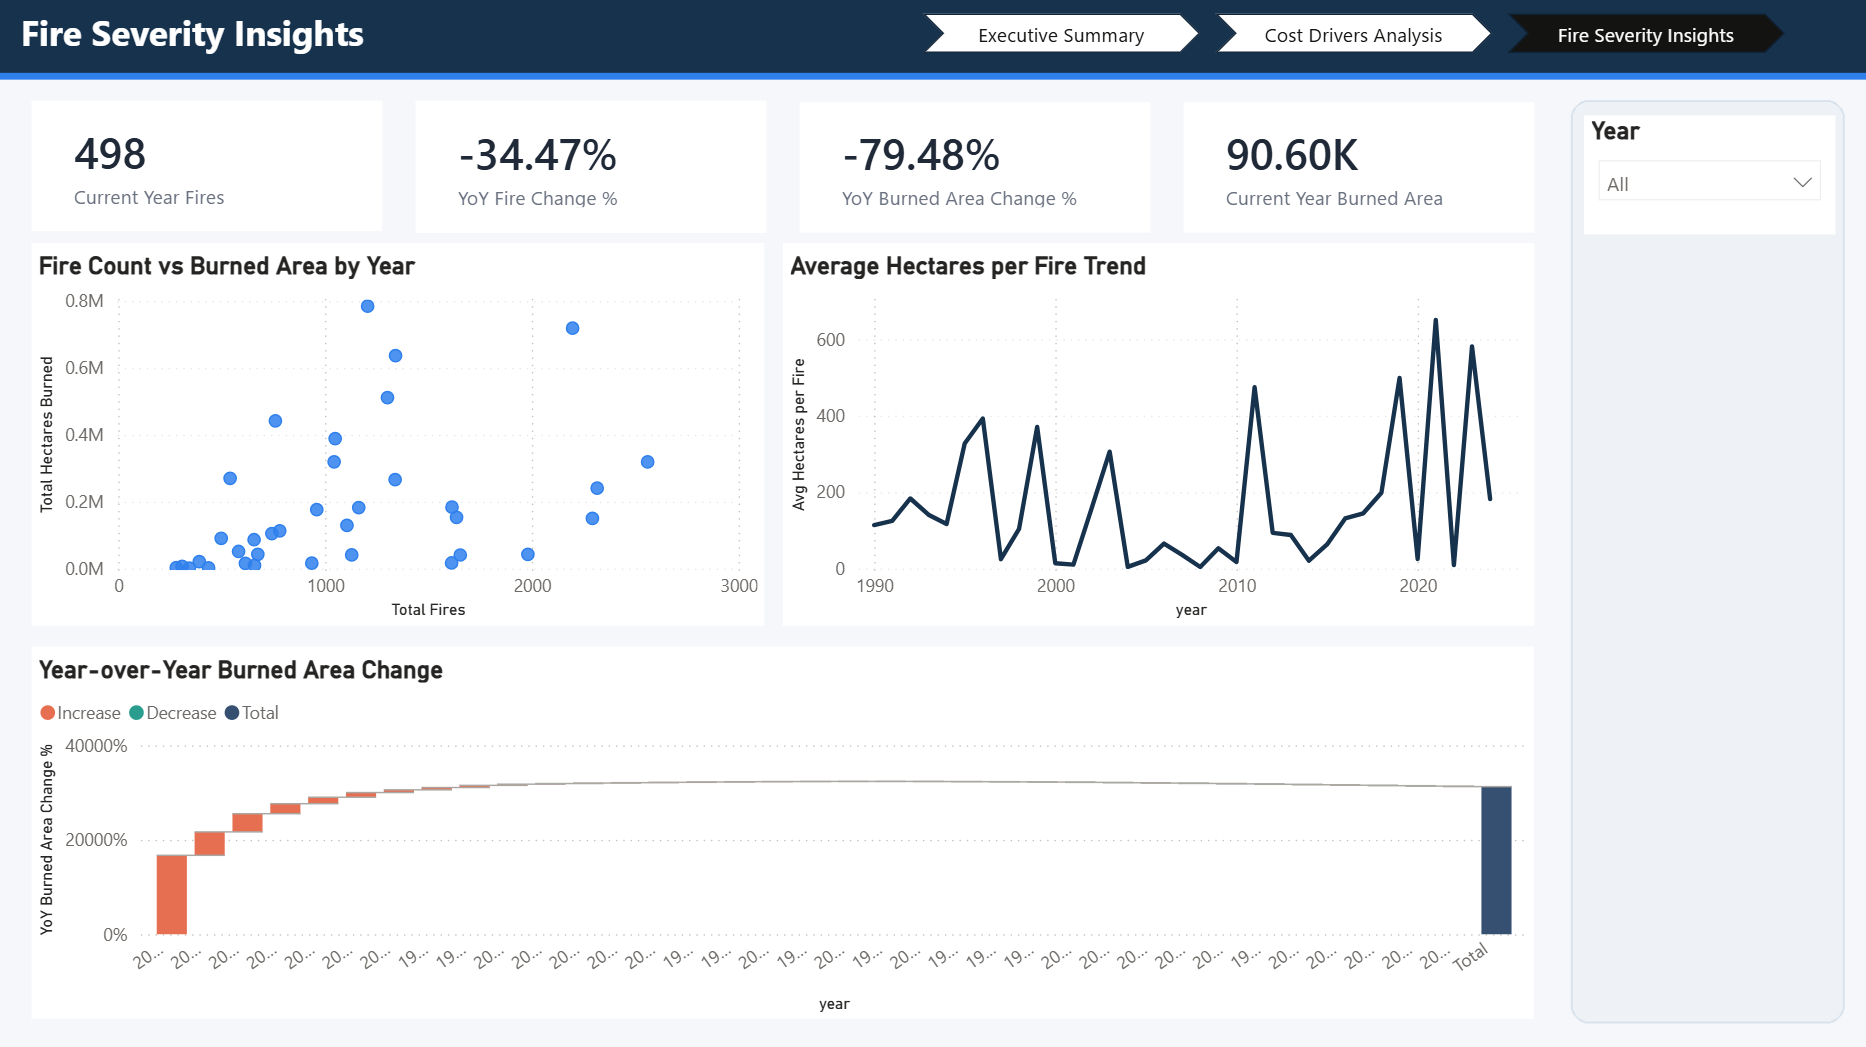

The page's visual inventory and layout, read from the dashboard file:
{"tool":"powerbi","page":{"name":"Fire Severity Insights","canvas":[1280,720],"ordinal":2},"visuals":[{"type":"scatterChart","title":"Fire Count vs Burned Area by Year","fields":{"X":["measures_.Total Fires"],"Y":["measures_.Total Hectares Burned"],"Category":["Dim_Year.year"]},"box":[22,166.7,501.4,261.7],"z":0},{"type":"waterfallChart","title":"Year-over-Year Burned Area Change","fields":{"Category":["Dim_Year.year"],"Y":["measures_.YoY Burned Area Change %"]},"box":[22,442.2,1027.7,254.9],"z":1000},{"type":"lineChart","title":"Average Hectares per Fire Trend","fields":{"Category":["Dim_Year.year"],"Y":["measures_.Avg Hectares per Fire"]},"box":[535.9,166.7,513.8,261.7],"z":2000},{"type":"textbox","box":[9.4,0,501.7,48.2],"z":3000},{"type":"slicer","title":"Year","fields":{"Values":["Dim_Year.year"]},"box":[1084.2,78.5,172.2,81.3],"z":4000},{"type":"cardVisual","fields":{"Data":["measures_.Current Year Fires"]},"box":[22,68.9,239.7,89.5],"z":5000},{"type":"cardVisual","fields":{"Data":["measures_.YoY Fire Change %"]},"box":[283.8,68.9,239.7,90.9],"z":6000},{"type":"cardVisual","fields":{"Data":["measures_.YoY Burned Area Change %"]},"box":[546.9,70.3,239.7,89.5],"z":7000},{"type":"cardVisual","fields":{"Data":["measures_.Current Year Burned Area"]},"box":[810,70.3,239.7,89.5],"z":8000},{"type":"pageNavigator","box":[630.9,9.6,591,27.6],"z":9000}]}

Visuals, with their boxes in screenshot pixels (x1, y1, x2, y2), scaled from the page's 1280x720 canvas onto the 1866x1047 screenshot:
"Fire Count vs Burned Area by Year" scatterChart: select_region(32, 242, 763, 623)
"Year-over-Year Burned Area Change" waterfallChart: select_region(32, 643, 1530, 1014)
"Average Hectares per Fire Trend" lineChart: select_region(781, 242, 1530, 623)
textbox: select_region(14, 0, 745, 70)
"Year" slicer: select_region(1581, 114, 1832, 232)
cardVisual - measures_.Current Year Fires: select_region(32, 100, 382, 230)
cardVisual - measures_.YoY Fire Change %: select_region(414, 100, 763, 232)
cardVisual - measures_.YoY Burned Area Change %: select_region(797, 102, 1147, 232)
cardVisual - measures_.Current Year Burned Area: select_region(1181, 102, 1530, 232)
pageNavigator: select_region(920, 14, 1781, 54)
